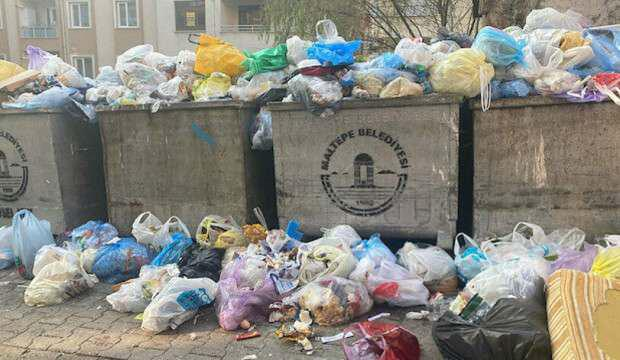Container: (263, 99, 460, 246), (473, 100, 620, 254), (99, 103, 253, 237), (2, 106, 99, 242)
Garbage: (0, 211, 620, 360), (0, 2, 620, 103), (417, 287, 549, 360), (128, 262, 211, 341), (252, 299, 321, 360), (457, 258, 544, 306), (532, 20, 605, 77), (286, 15, 363, 65), (180, 20, 252, 73), (427, 53, 508, 98), (23, 265, 106, 307), (461, 17, 523, 66), (226, 238, 277, 296), (85, 228, 145, 276), (308, 279, 373, 322), (124, 41, 174, 95), (25, 50, 90, 90), (7, 208, 49, 267), (322, 227, 386, 255), (397, 39, 441, 72), (117, 65, 166, 88)
